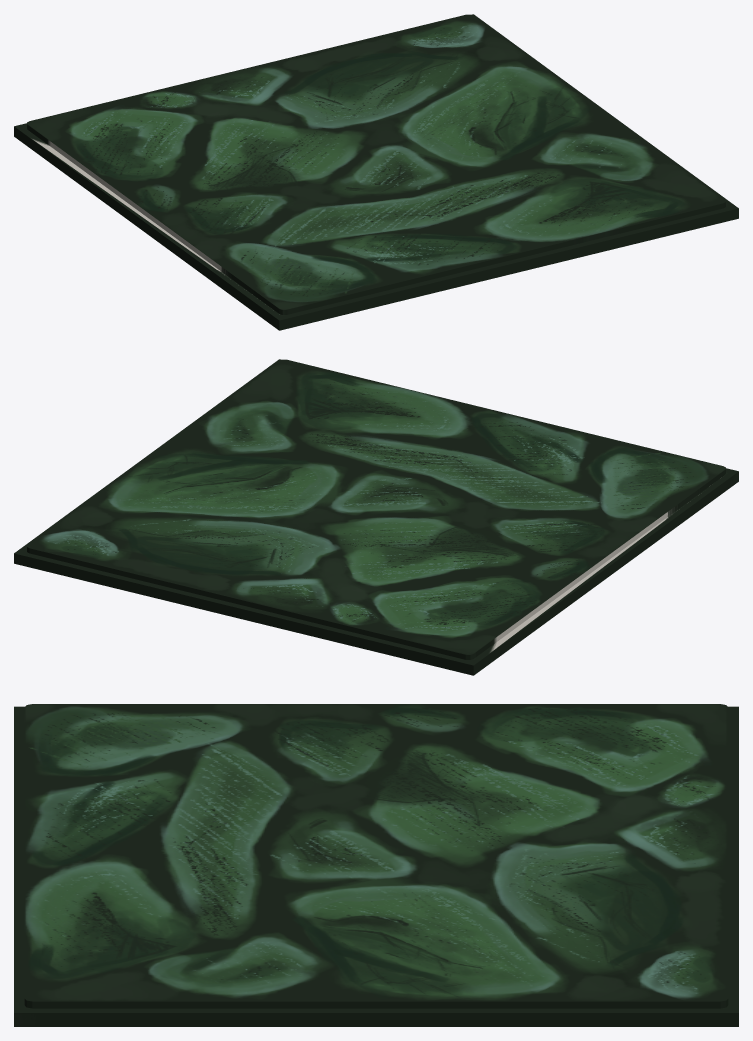
The model's file is Vloer[beta]NEWER.fbx.
3 renders of one model, top to bottom at view 1: azimuth 30°, elevation 25°; view 2: azimuth 150°, elevation 25°; view 3: azimuth 270°, elevation 25°, orthographic. The views are drawn at different scales.
Parts seen in each view (by area): view 1: Cube.003; view 2: Cube.003; view 3: Cube.003.
Part boxes in pixels (x1,y1,x2,y2): Cube.003: (14,14,738,330); Cube.003: (14,359,738,675); Cube.003: (14,704,738,1026).
Size of the model in its own units: 200 by 6.38 by 200.
1 material, 1 textured.
